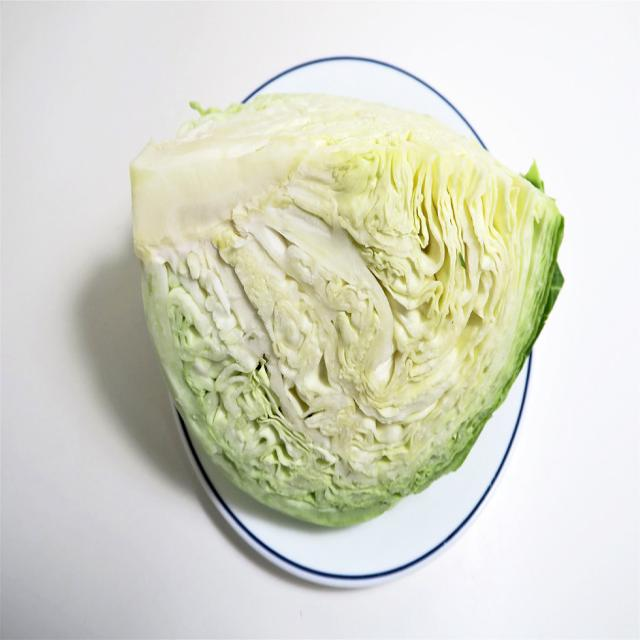haft-cabbage: (125, 89, 567, 534)
